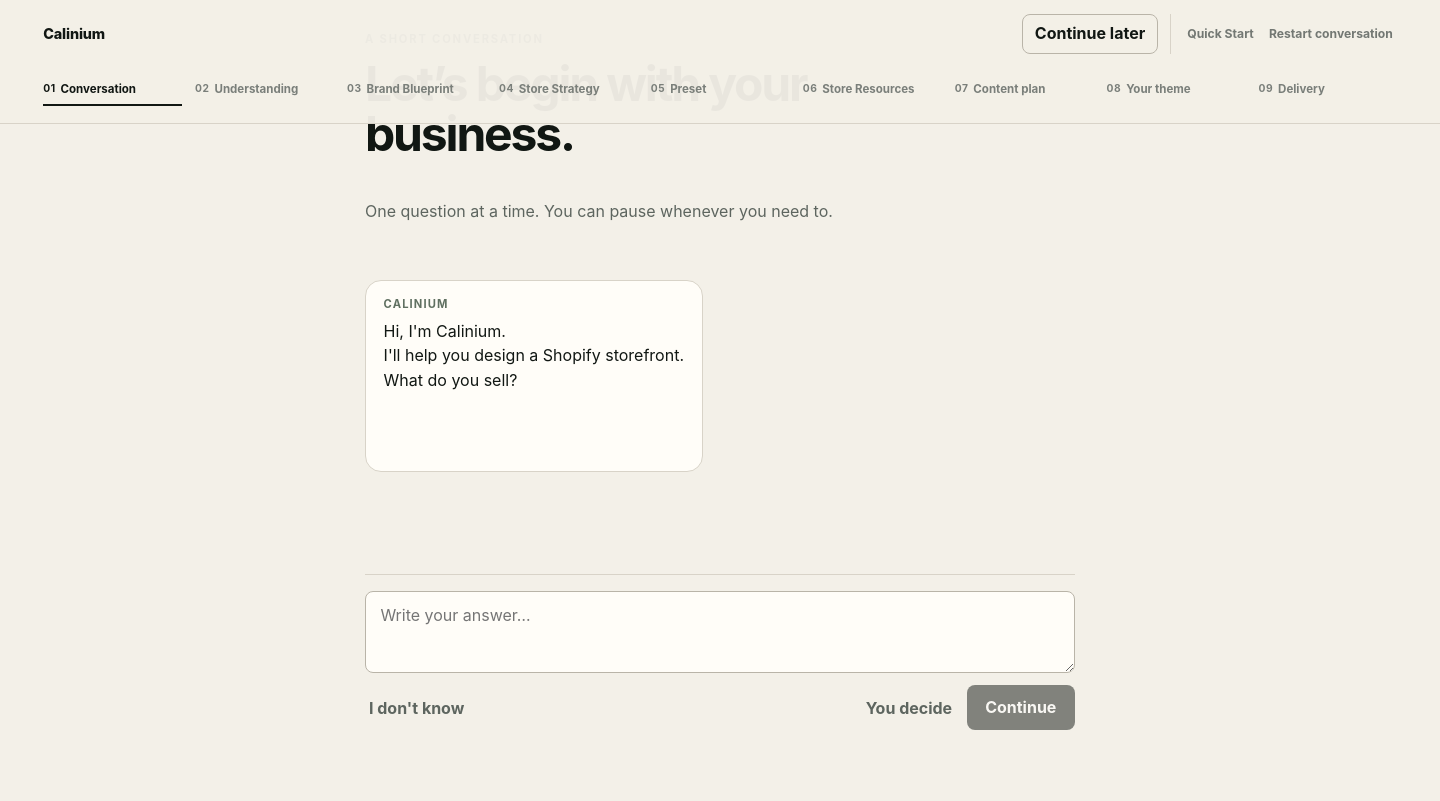
Test: CreativeDirectorApp › renders one conversational prompt at a time and advances only after a saved response
(page scrolled)
Expected: the heading "Let’s begin with your business." is shown, 365,59 -> 883,159
Expected: the text "What do you sell?" is shown, 384,321 -> 684,390
Type "Leather travel bags" into the text box labelled "your answer" at [720, 632], box 365,591 -> 1075,673
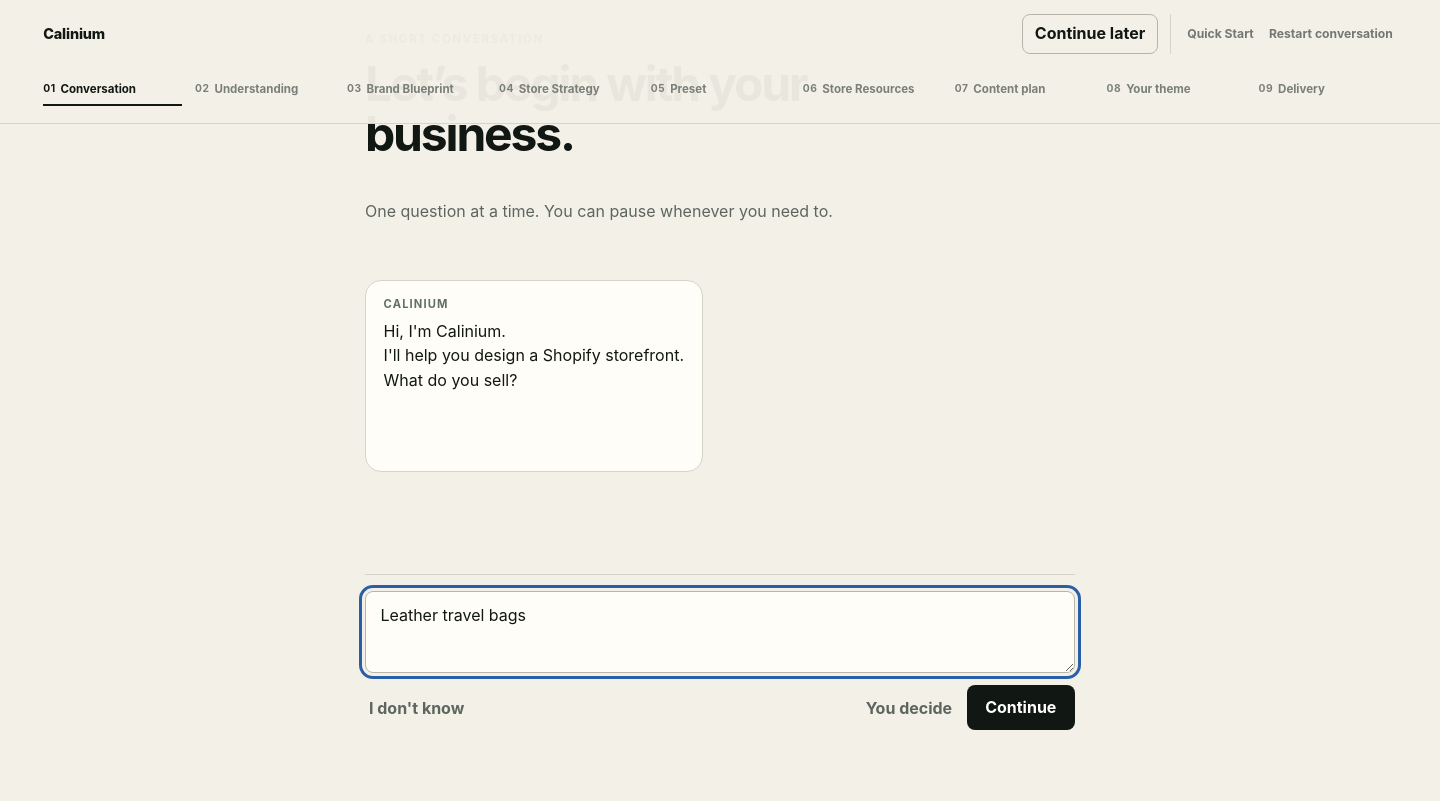
Click the button "Continue" at [1021, 708], box 966,685 -> 1075,730
(page scrolled)
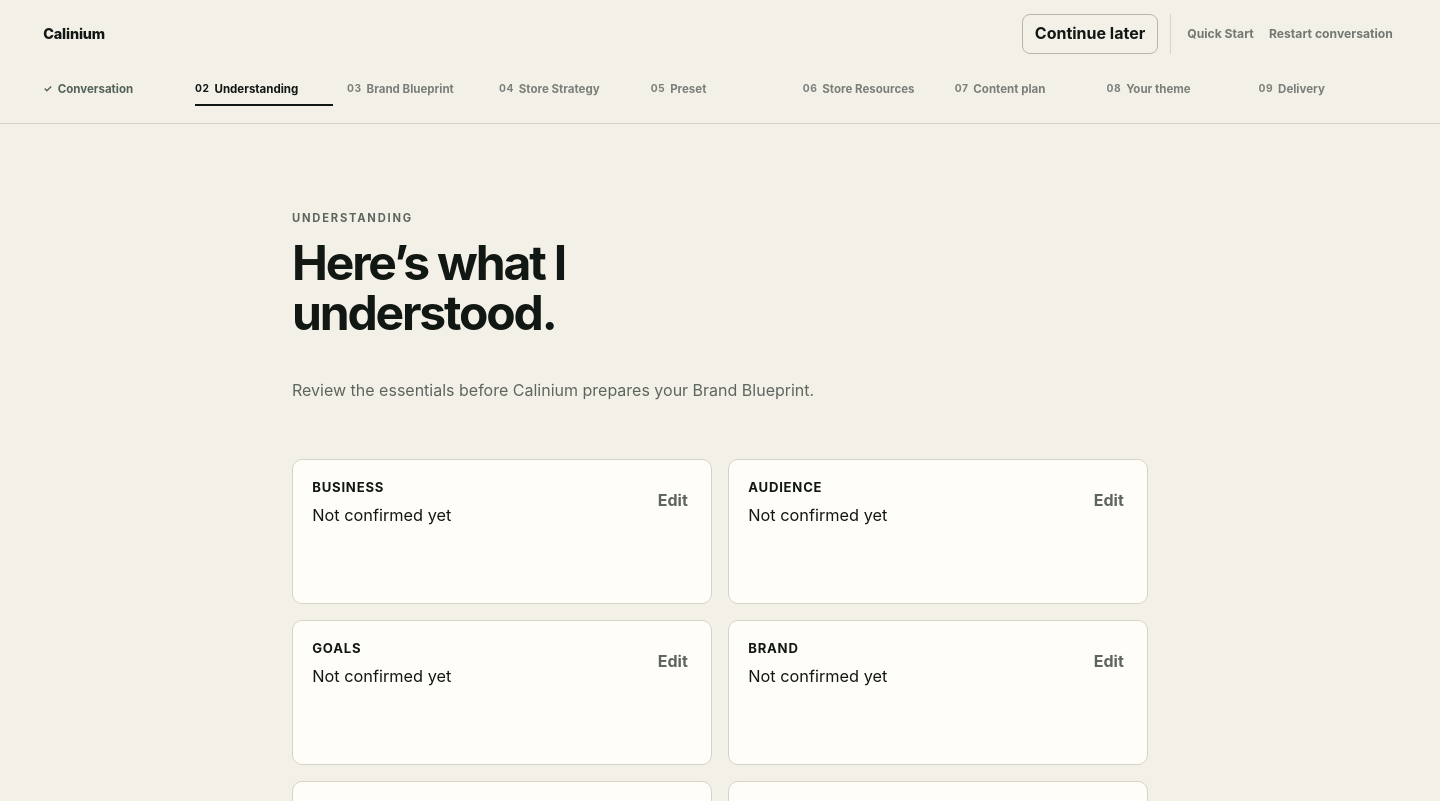
Expected: the heading "Here’s what I understood." is shown, 292,233 -> 565,342
